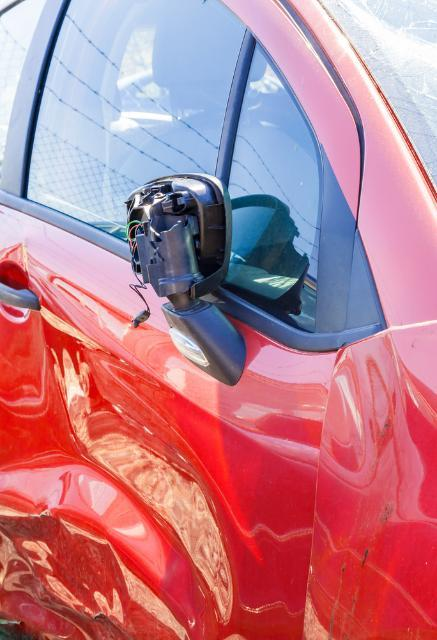dent: (0, 313, 235, 625), (0, 511, 185, 639)
no part: (122, 182, 232, 313)
